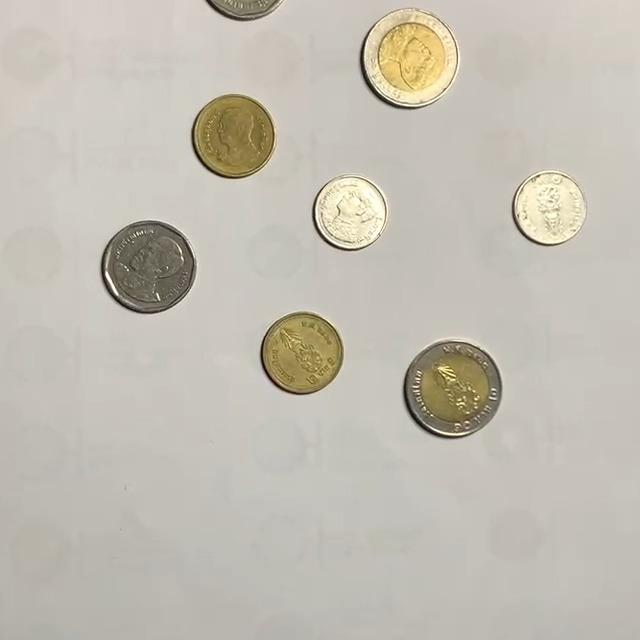1-baht: (313, 174, 390, 251), (512, 170, 589, 245)
10-baht: (361, 8, 461, 108), (404, 340, 504, 437)
2-baht: (192, 94, 276, 178), (261, 311, 344, 394)
5-baht: (101, 220, 197, 313), (197, 0, 292, 20)
